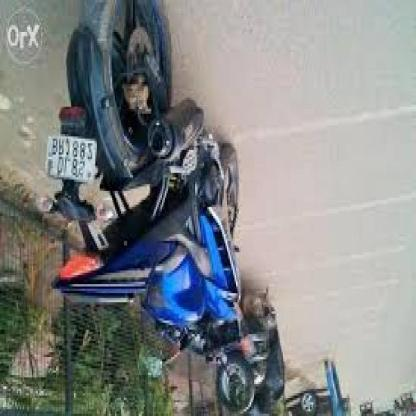bike: (46, 12, 240, 330)
